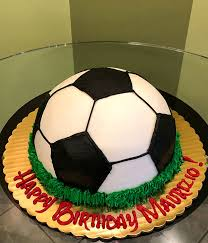football ball: (30, 66, 178, 194)
